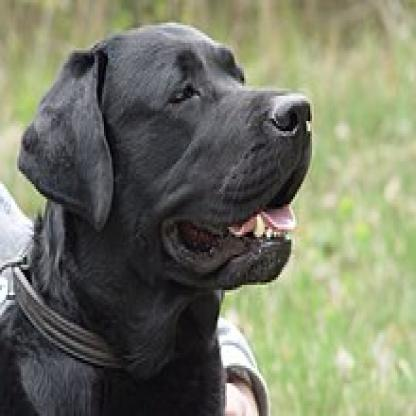Labarador Retriever: (0, 20, 314, 416)
